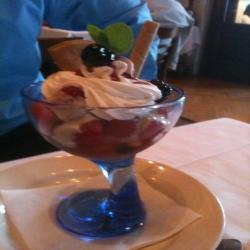icecream: (23, 47, 168, 149)
